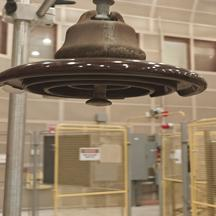insulator: (0, 4, 208, 113)
